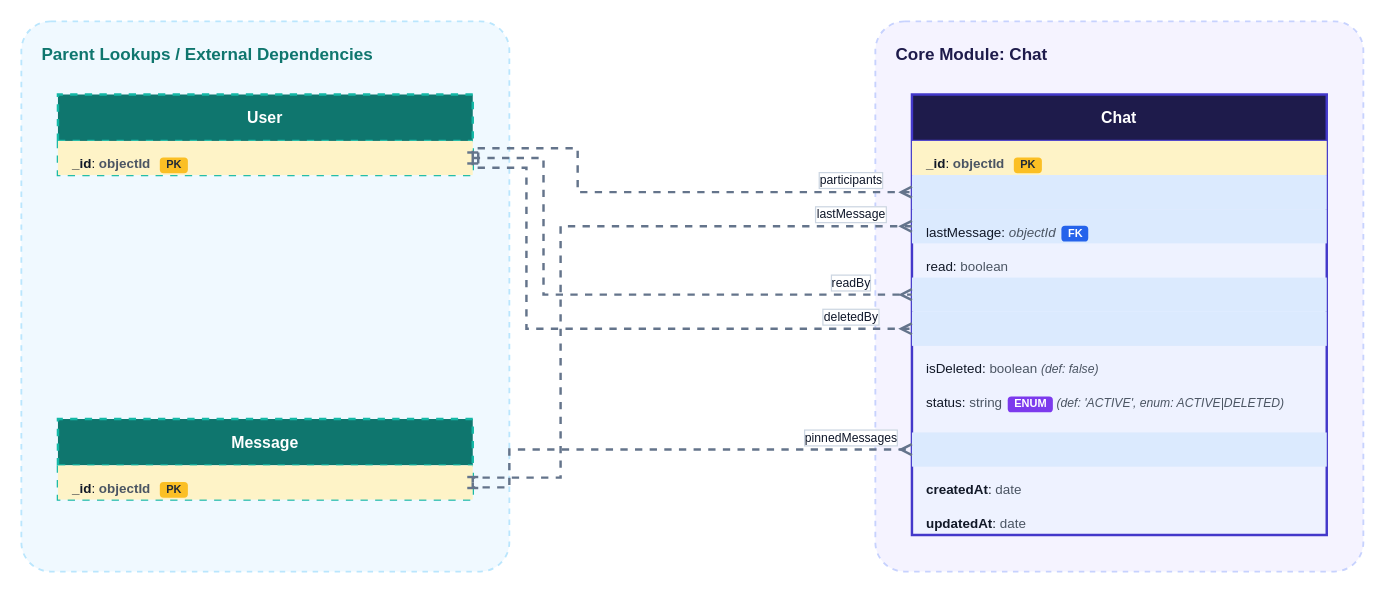
Image size: 1386x594. Some labels were removed from this diagram. Here are the shapes that lost their labels. From the top down, the centre of each, then its label:
At (1118,191): "participants: objectId[] FK".
At (1118,294): "readBy: objectId[] FK".
At (1118,328): "deletedBy: objectId[] FK".
At (1118,449): "pinnedMessages: objectId[] FK".
